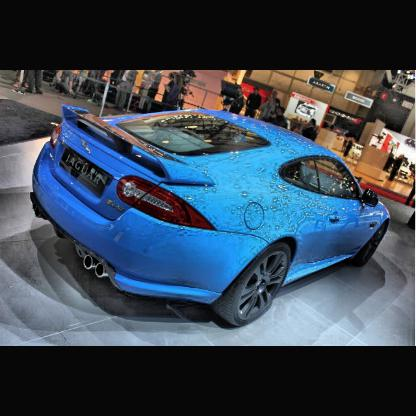Jaguar XK XKR 2012: (30, 104, 392, 328)
